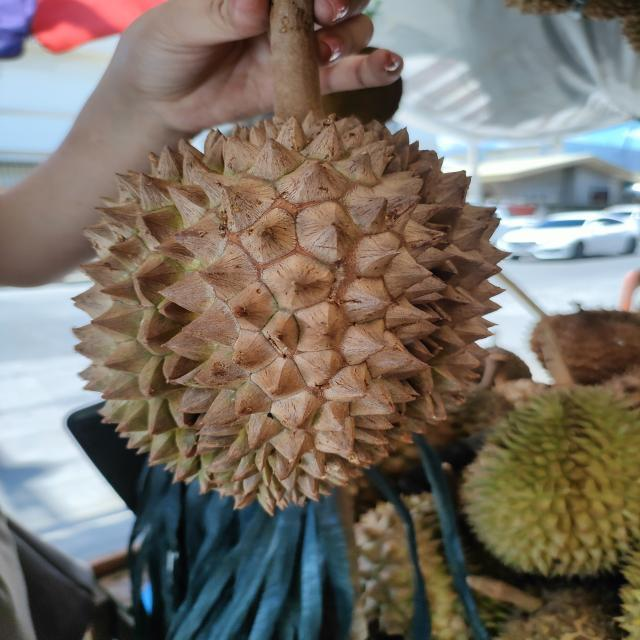mature: (61, 112, 511, 514)
